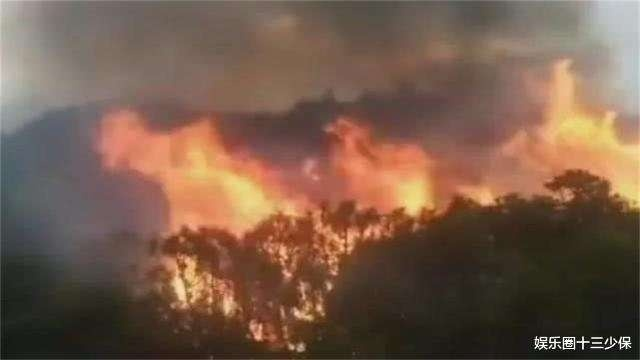fire: (94, 100, 456, 341)
